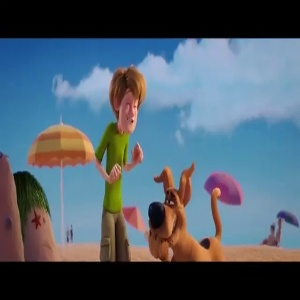Scooby: (145, 160, 197, 257)
Shagy: (105, 66, 150, 138)
